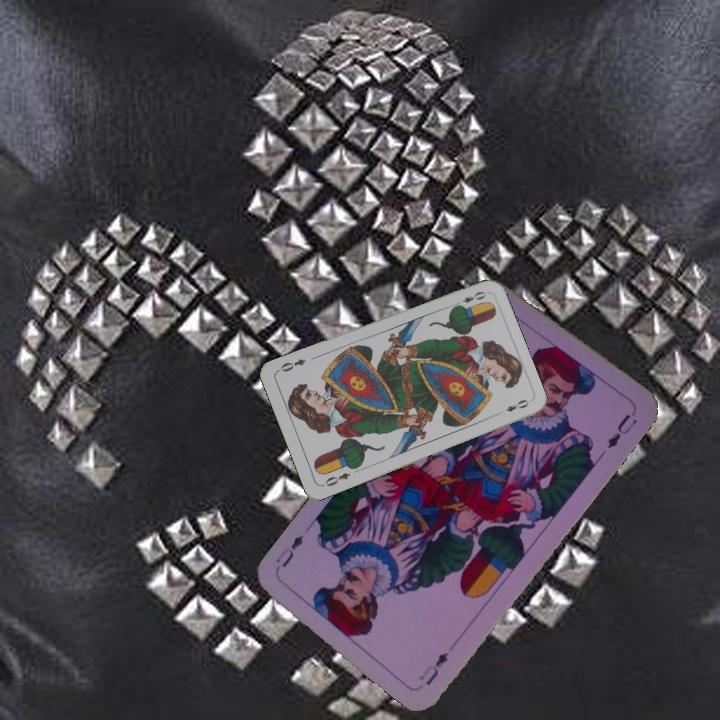EO: (450, 287, 489, 310), (318, 469, 353, 489)
EU: (415, 647, 451, 688)
